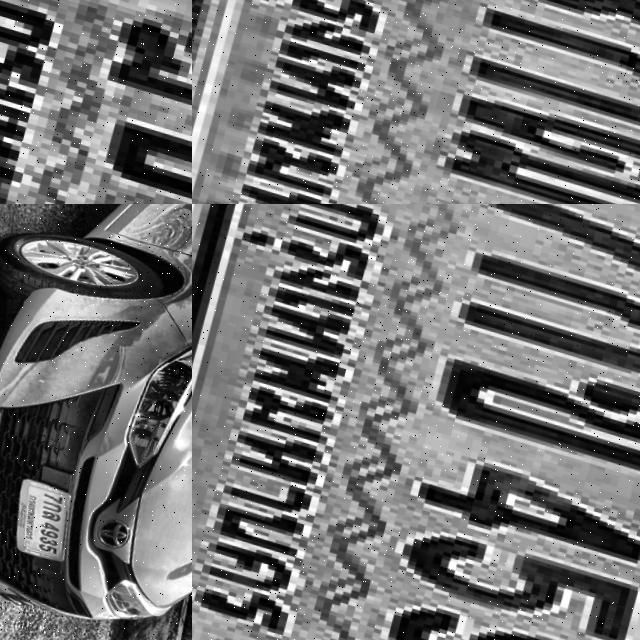license-plate: (192, 204, 640, 640), (192, 0, 640, 204), (0, 0, 192, 204), (8, 471, 89, 564)
